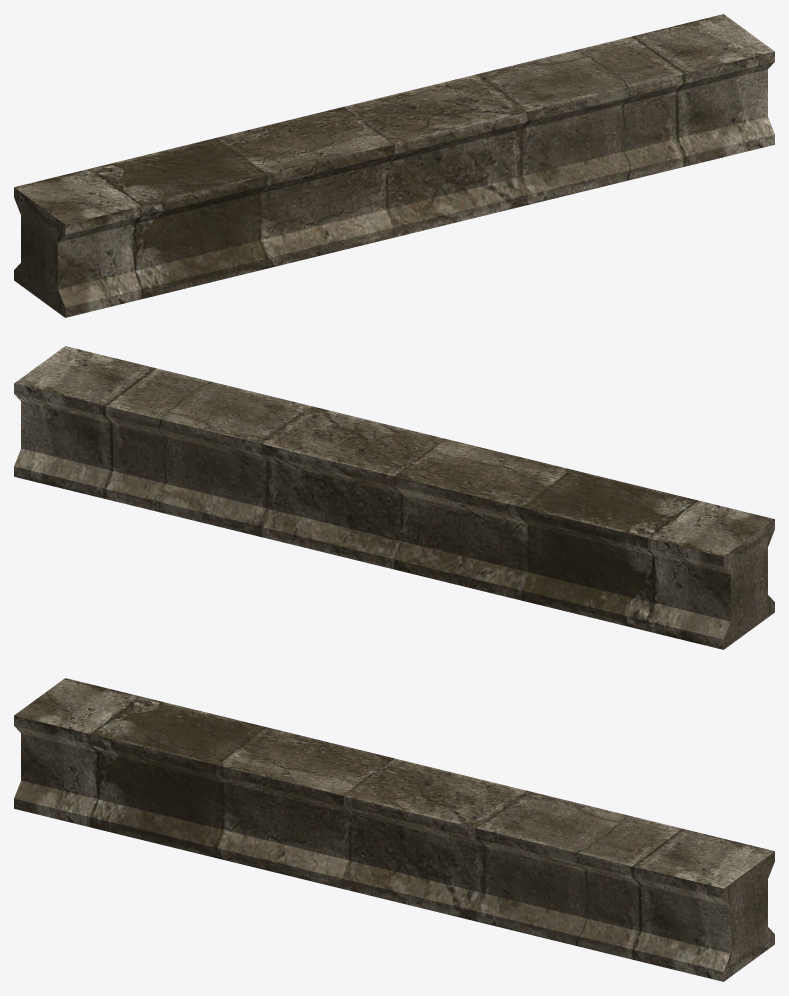
File: church_beam02_worn.DAE
3 renders of one model, top to bottom at view 1: azimuth 30°, elevation 25°; view 2: azimuth 150°, elevation 25°; view 3: azimuth 330°, elevation 25°, orthographic.
Parts seen in each view (by area): view 1: Object136; view 2: Object136; view 3: Object136.
Boxes of the visible parts, x1=… form: Object136: x1=14, y1=14, x2=774, y2=317; Object136: x1=14, y1=346, x2=774, y2=649; Object136: x1=14, y1=678, x2=774, y2=981.
Size of the model in its own units: 4 by 0.502 by 0.5004.
